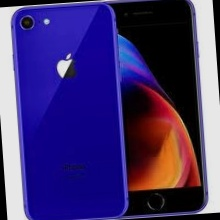iphone: (16, 2, 123, 218)
